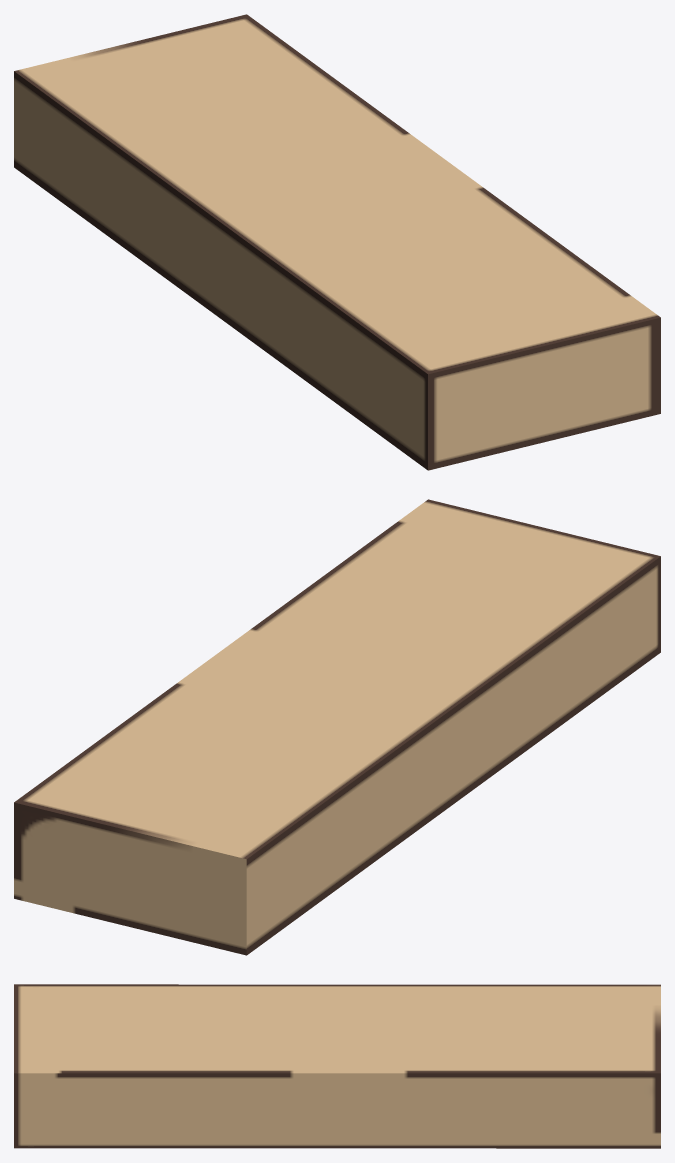
The model's file is Piece of Wood.fbx.
The picture shows the model from 3 angles, top to bottom: view 1: azimuth 30°, elevation 25°; view 2: azimuth 150°, elevation 25°; view 3: azimuth 270°, elevation 25°; orthographic projection. The views are drawn at different scales.
Parts seen in each view (by area): view 1: Piece_of_wood; view 2: Piece_of_wood; view 3: Piece_of_wood.
Part boxes in pixels (left/top/right/bottom): Piece_of_wood: left=14, top=14, right=660, bottom=470; Piece_of_wood: left=14, top=499, right=660, bottom=955; Piece_of_wood: left=14, top=984, right=660, bottom=1148.
Size of the model in its own units: 27.06 by 10.69 by 83.32.
Materials: 1 (1 with a texture image).
